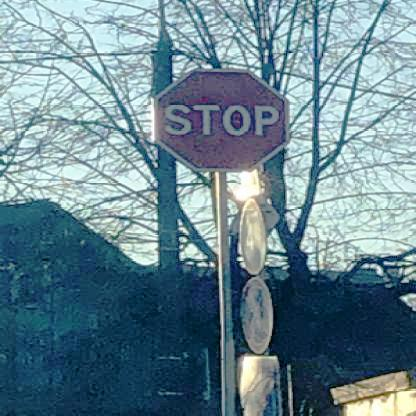Stop Sign: (152, 67, 292, 173)
